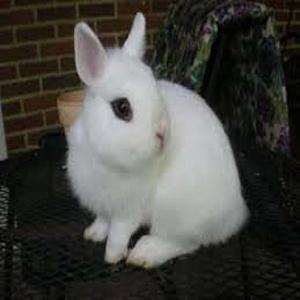rabbit: (67, 15, 248, 268)
